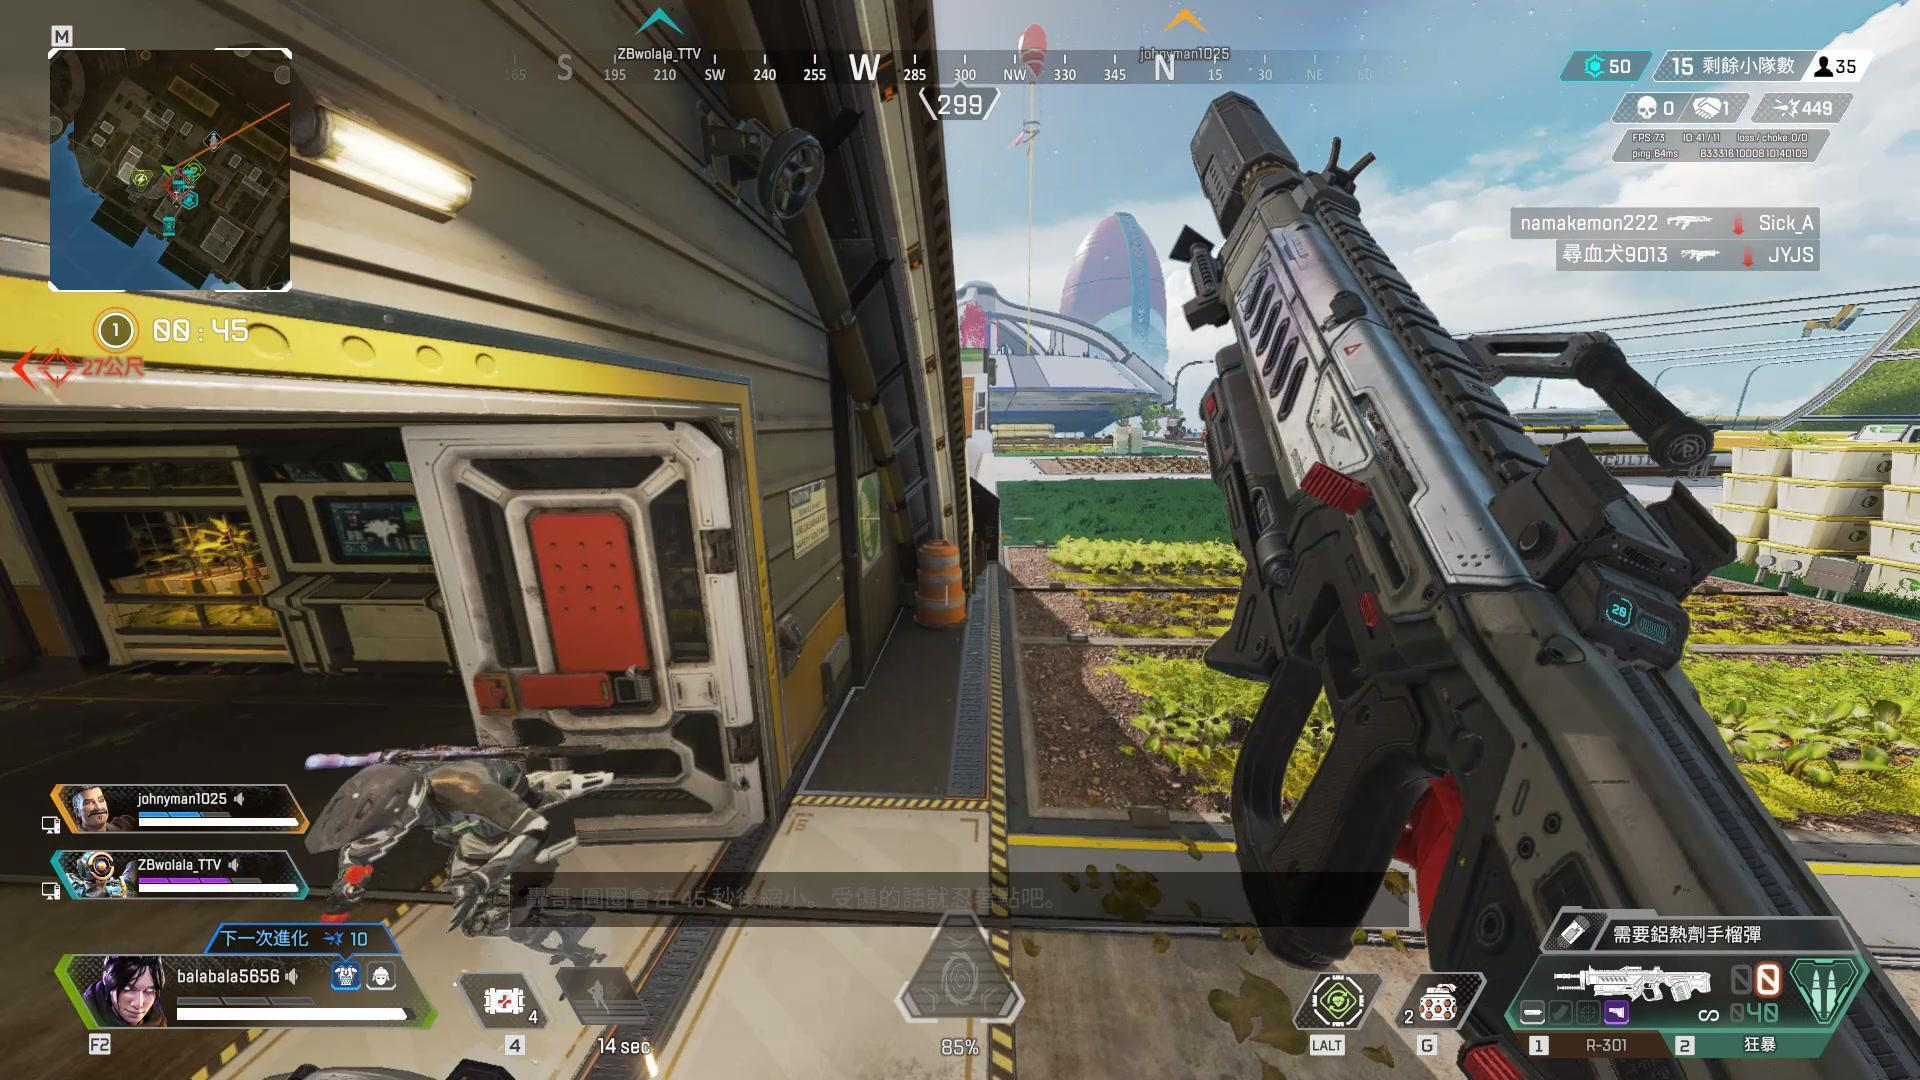avatar: (303, 739, 587, 966)
